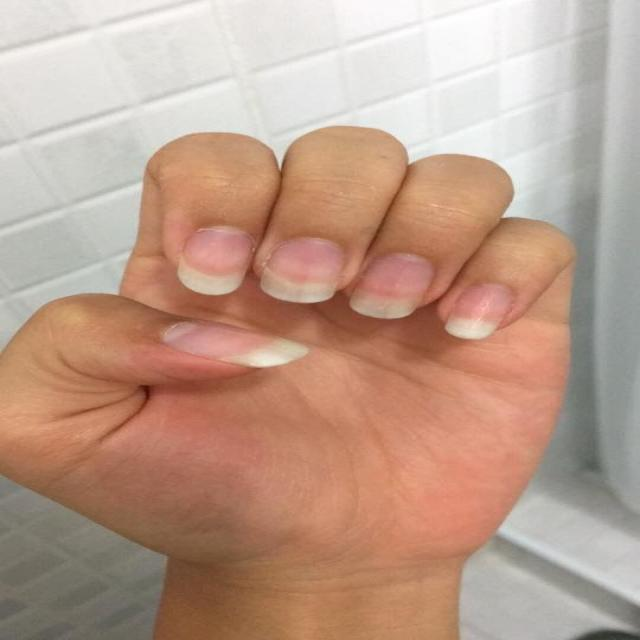Fingernail: (163, 321, 309, 368), (348, 252, 436, 319), (262, 237, 345, 303), (177, 227, 254, 296), (444, 282, 515, 339)
